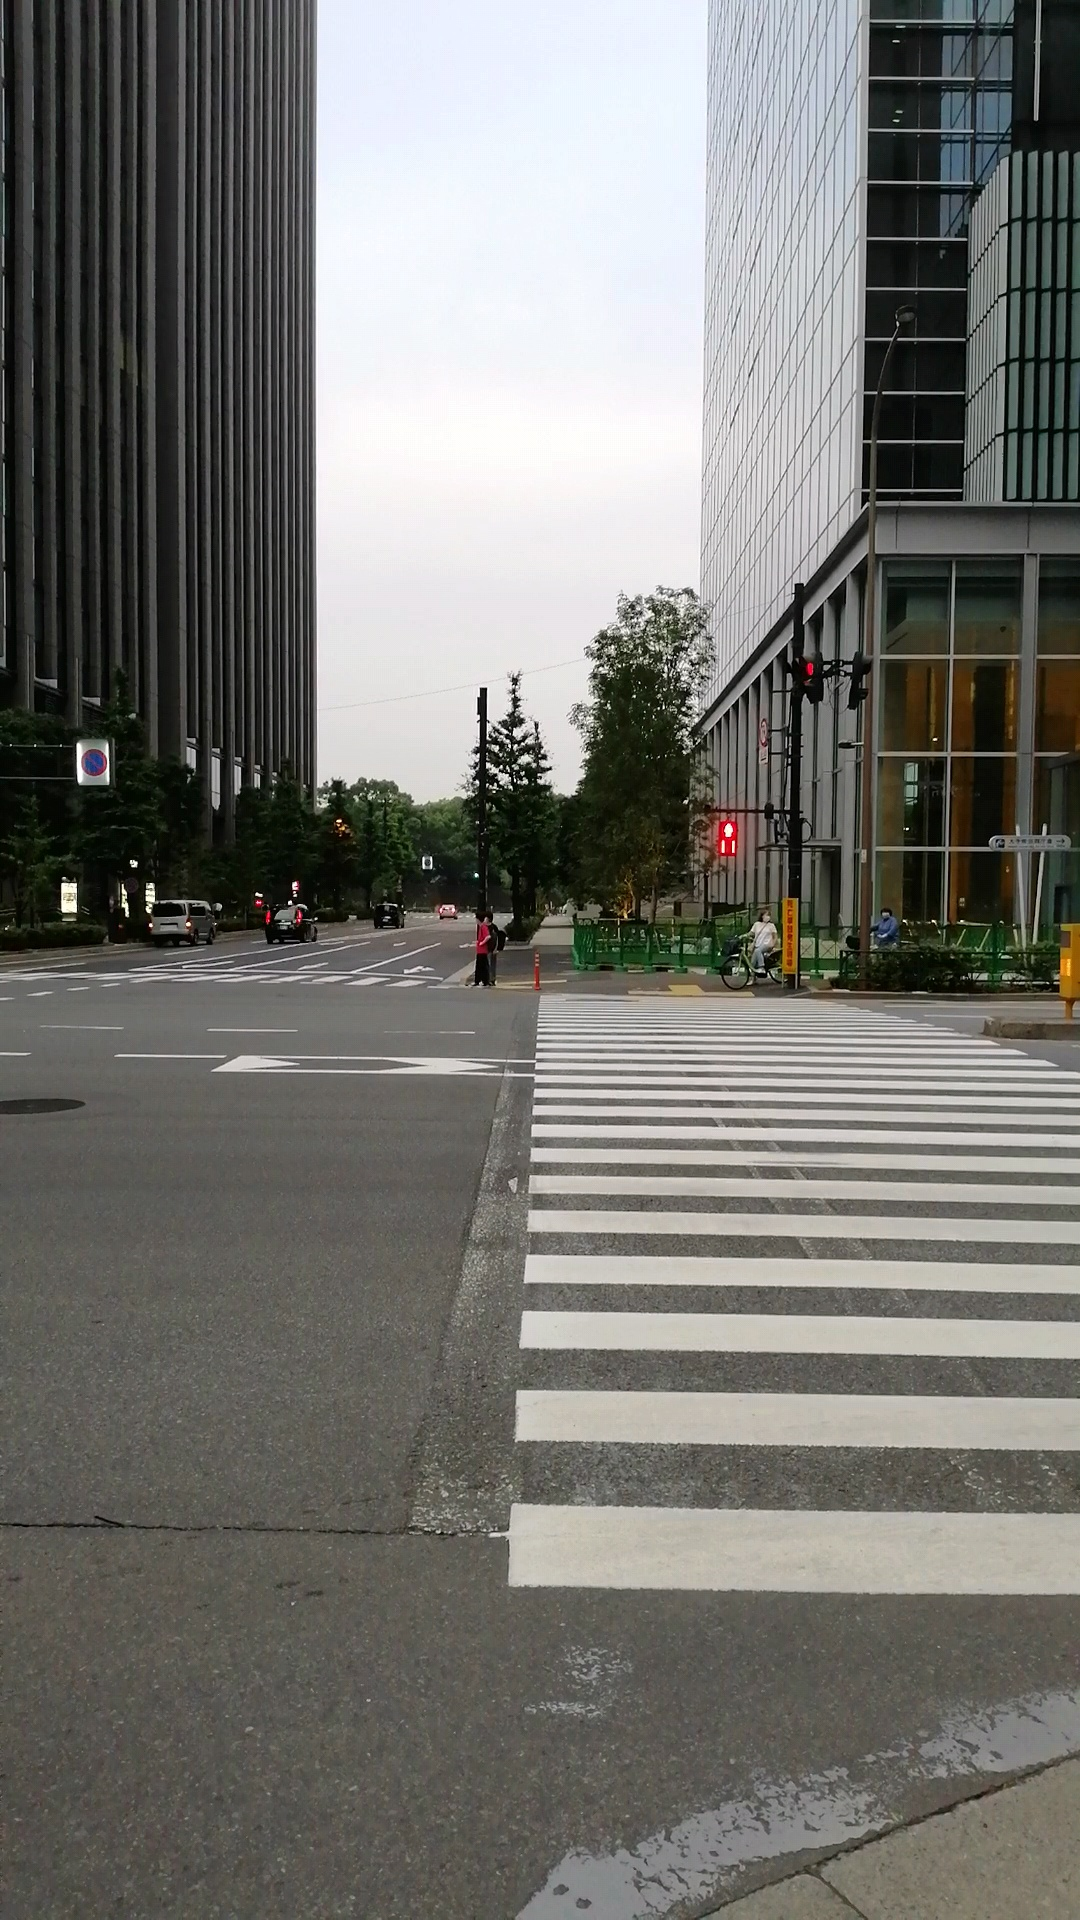red: (717, 820, 737, 857)
